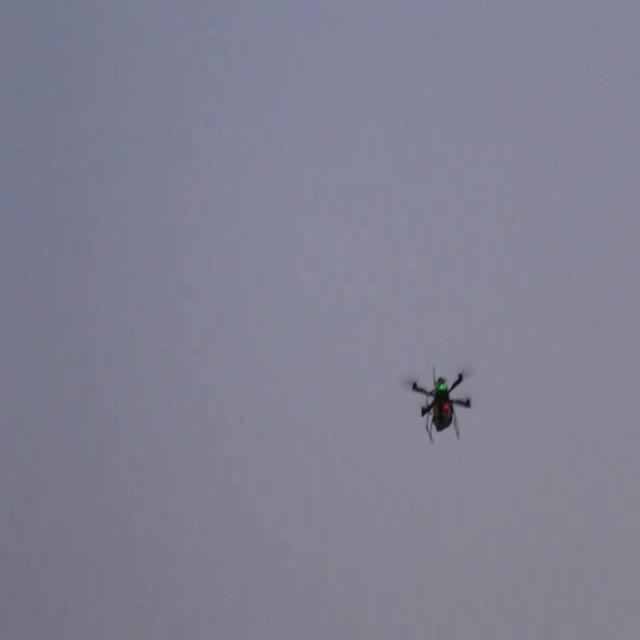drone: (411, 367, 473, 444)
